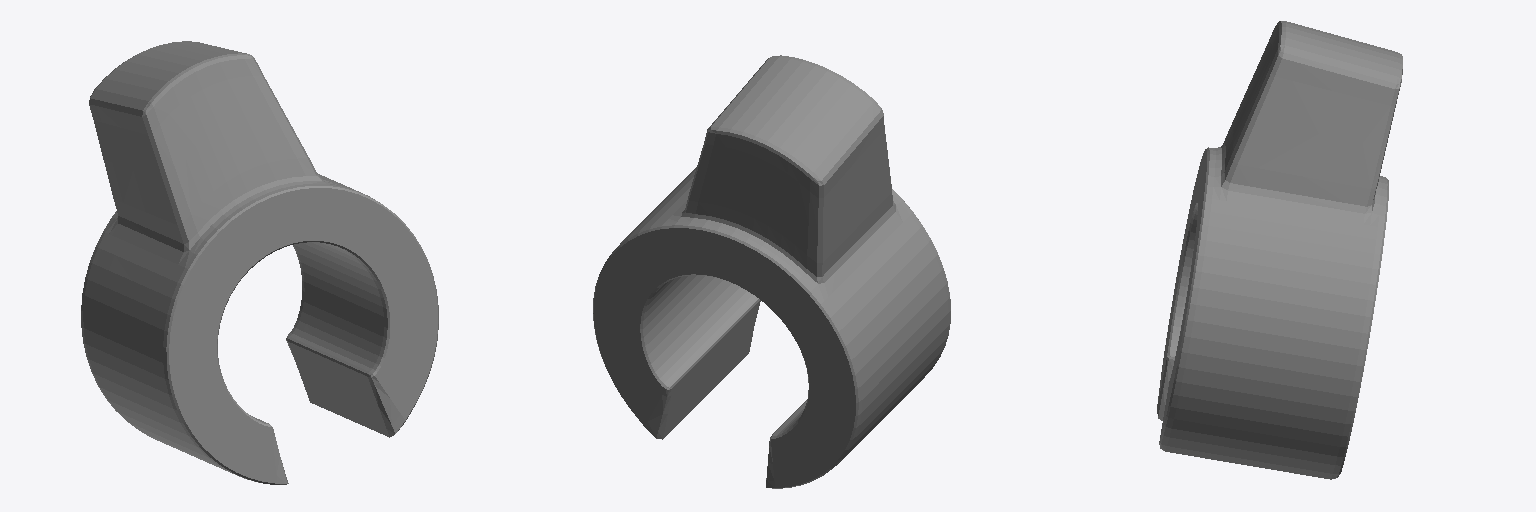
File: ManoIzq.obj
The picture shows the model from 3 angles: view 1: azimuth 30°, elevation 25°; view 2: azimuth 150°, elevation 25°; view 3: azimuth 270°, elevation 25°; orthographic projection.
Visible parts, largest first — view 1: ManoIzq; view 2: ManoIzq; view 3: ManoIzq.
Boxes of the visible parts, box(x1,y1,x2,y2) form: ManoIzq: box(81, 41, 438, 484); ManoIzq: box(593, 55, 950, 488); ManoIzq: box(1157, 21, 1402, 479).
Size of the model in its own units: 7.59 by 10.96 by 5.94.